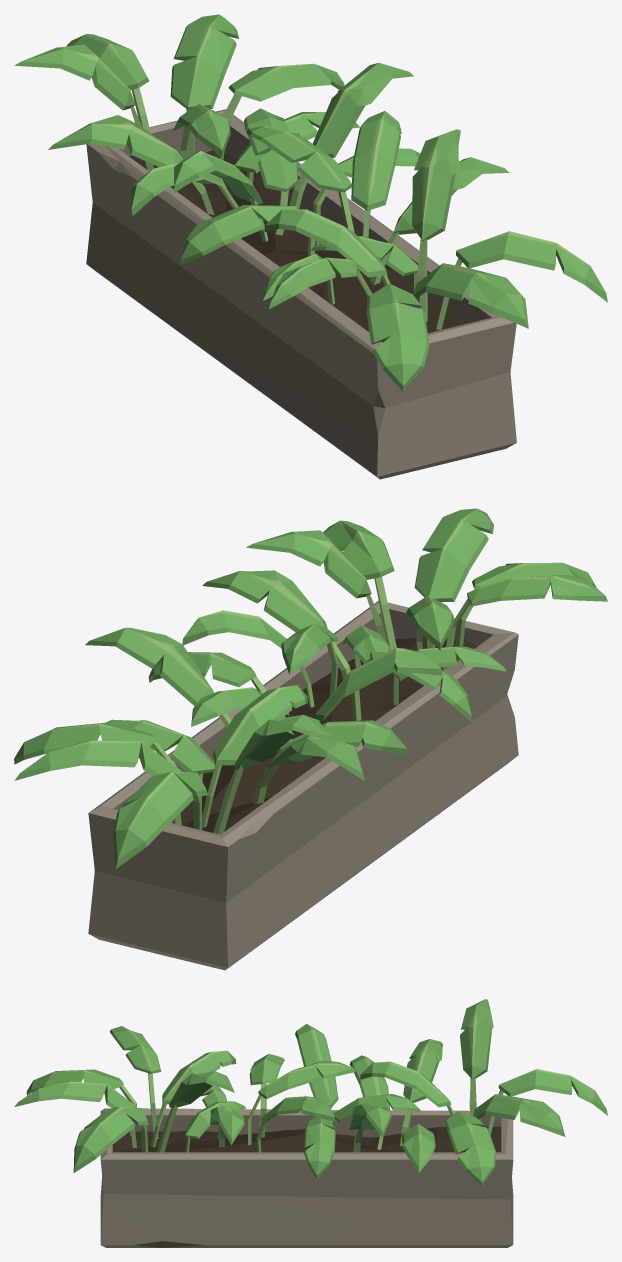
The model's file is SM_Prop_Pot_Plants_02.obj.
The picture shows the model from 3 angles, top to bottom: view 1: azimuth 30°, elevation 25°; view 2: azimuth 150°, elevation 25°; view 3: azimuth 270°, elevation 25°; orthographic projection. The views are drawn at different scales.
Visible parts, largest first — view 1: SM_Prop_Pot_Plants_02_0; view 2: SM_Prop_Pot_Plants_02_0; view 3: SM_Prop_Pot_Plants_02_0.
Boxes of the visible parts, x1,y1,x2,y2 form: SM_Prop_Pot_Plants_02_0: (14,14,607,479); SM_Prop_Pot_Plants_02_0: (14,508,607,970); SM_Prop_Pot_Plants_02_0: (14,999,607,1247).
Size of the model in its own units: 1.41 by 1.02 by 3.06.
1 material, 1 textured.
